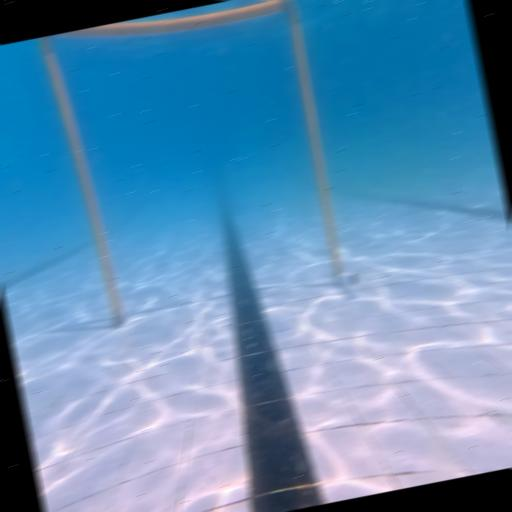gate: (37, 0, 360, 335)
